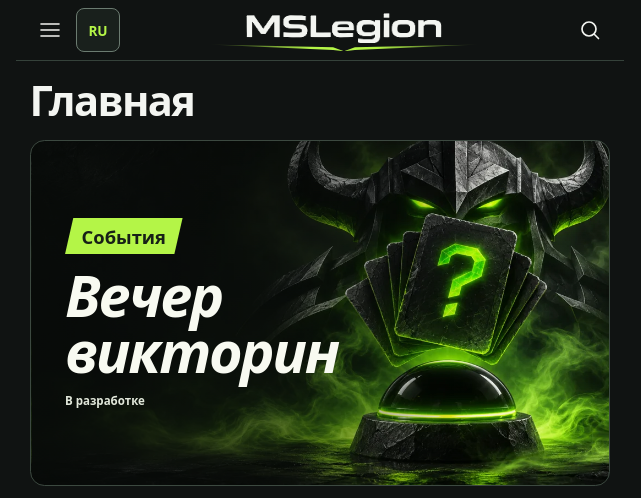
Test: Навигация Mini App › фильтрует разделы и открывает результат поиска
This screenshot has width=641, height=498.
Click the button named "Поиск": (590, 30) [568, 8, 612, 52]
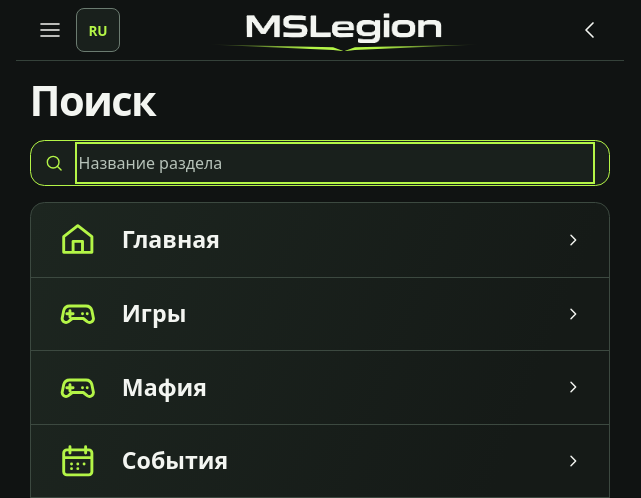
In the search field with placeholder "Название раздела": (335, 163) [74, 141, 596, 185], type "  СОБЫ "
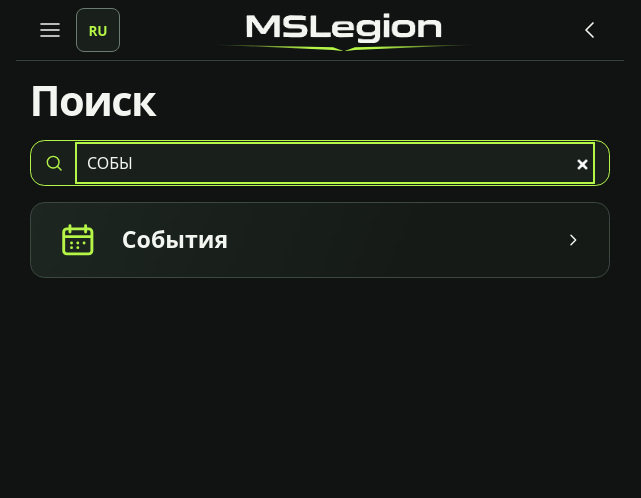
Expected: the element showing "Поиск События" is shown, [16, 61, 624, 278]
Expected: the button "Игры" no longer shows "Игры"
Click the button "События": (78, 240) [31, 203, 609, 277]
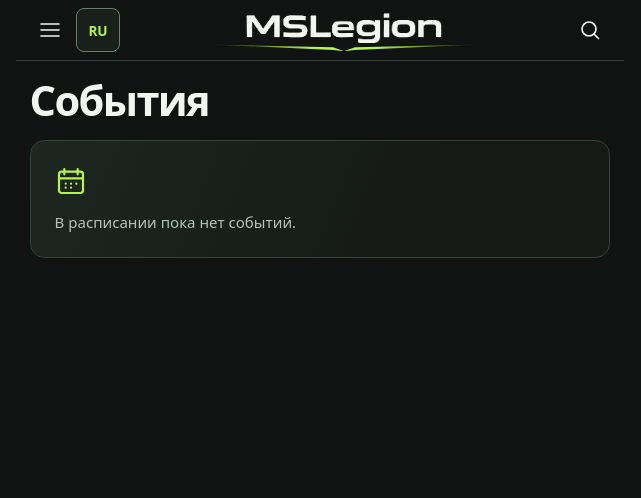
Expected: the heading "События" is shown, [30, 77, 209, 124]
